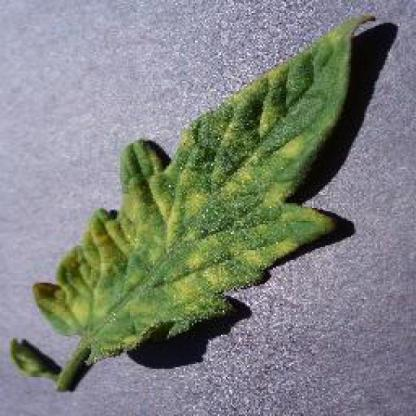Tomato_Leaf_Mold: (35, 13, 379, 348)
